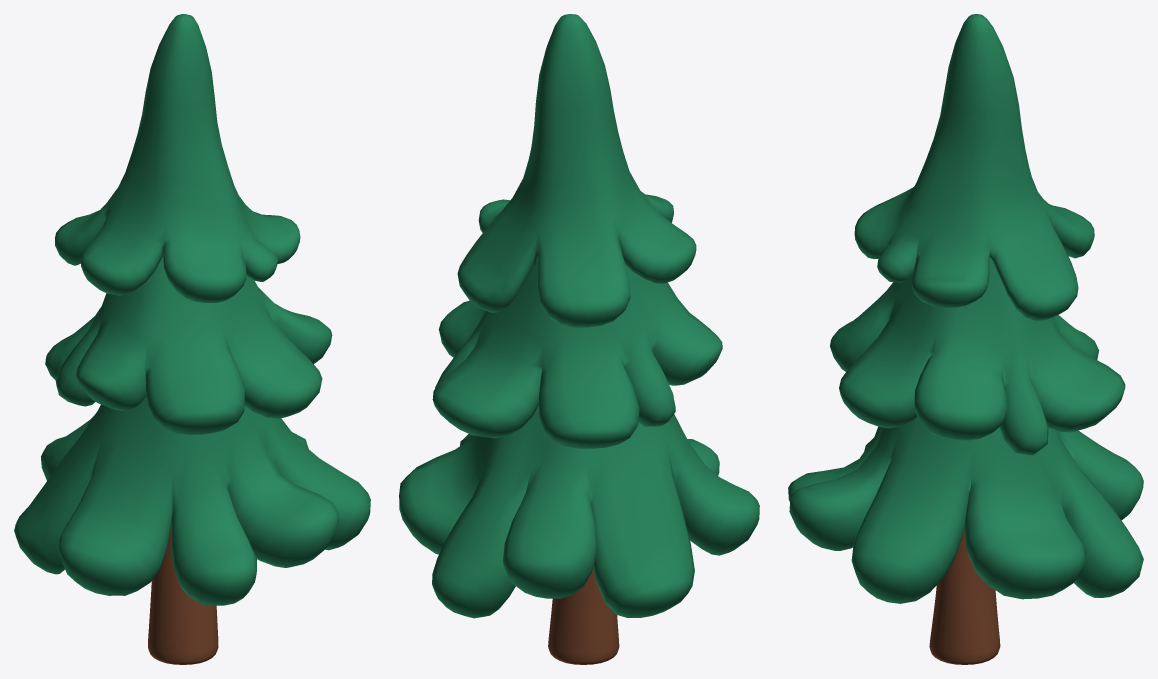
File: Pine_02.fbx
3 views of the same model, side by side, from view 1: azimuth 30°, elevation 25°; view 2: azimuth 150°, elevation 25°; view 3: azimuth 270°, elevation 25° (orthographic).
Parts seen in each view (by area): view 1: Pine_02_LOD0; view 2: Pine_02_LOD0; view 3: Pine_02_LOD0.
Part boxes in pixels (bbox=[...]): Pine_02_LOD0: bbox=[14, 14, 370, 664]; Pine_02_LOD0: bbox=[399, 14, 759, 664]; Pine_02_LOD0: bbox=[788, 14, 1143, 664].
Size of what is drawn, in the model's own units: 629 by 1293 by 651.
